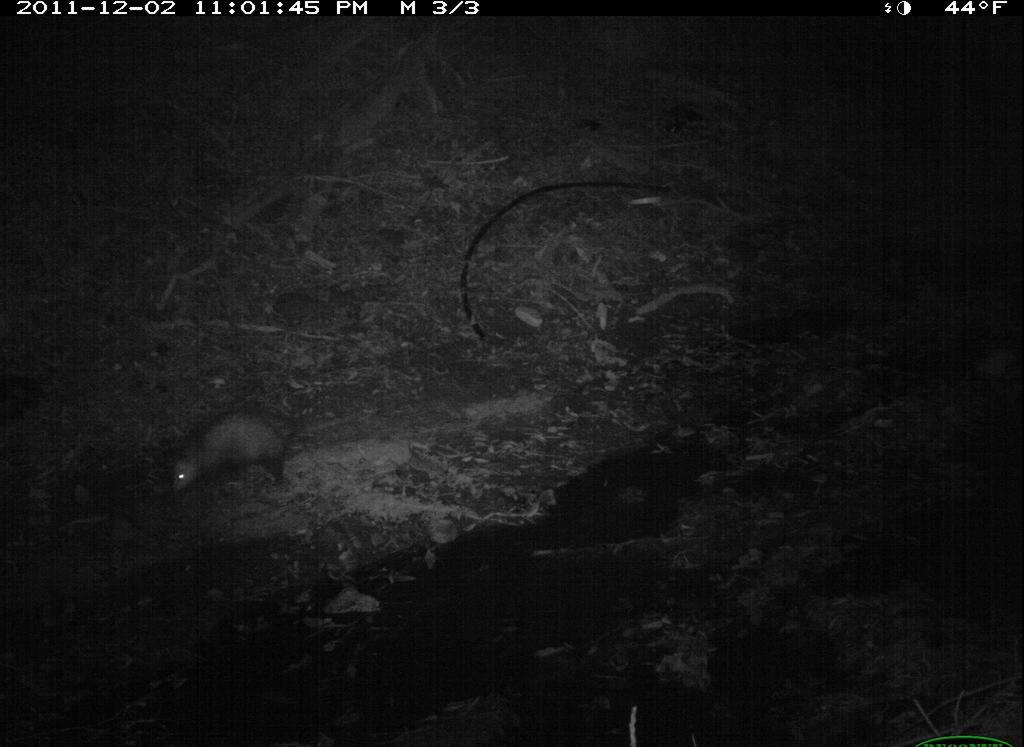opossum: (129, 390, 344, 511)
